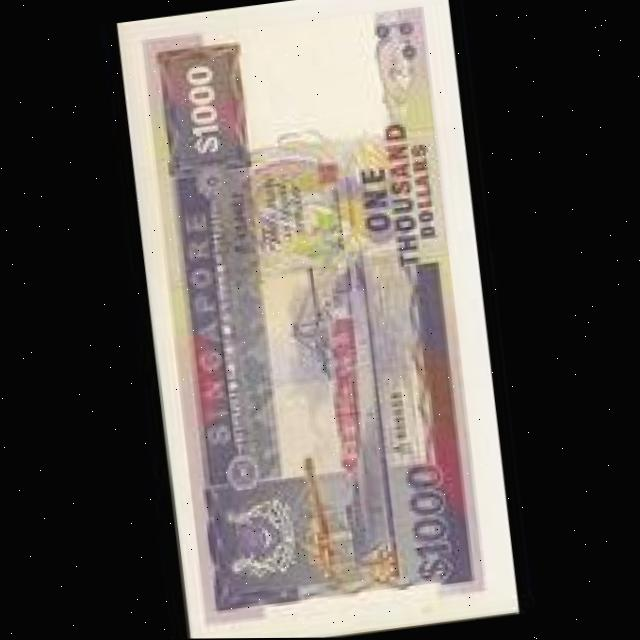banknote: (109, 0, 520, 639), (342, 111, 453, 274), (390, 453, 462, 597), (172, 54, 232, 163)
